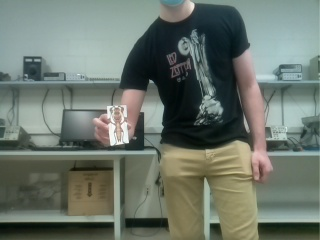Angry: (108, 105, 128, 146)
